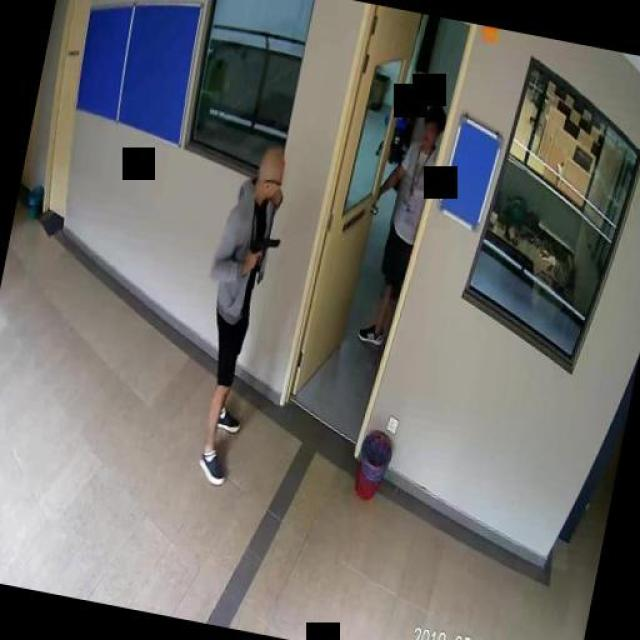gun: (246, 232, 280, 272)
